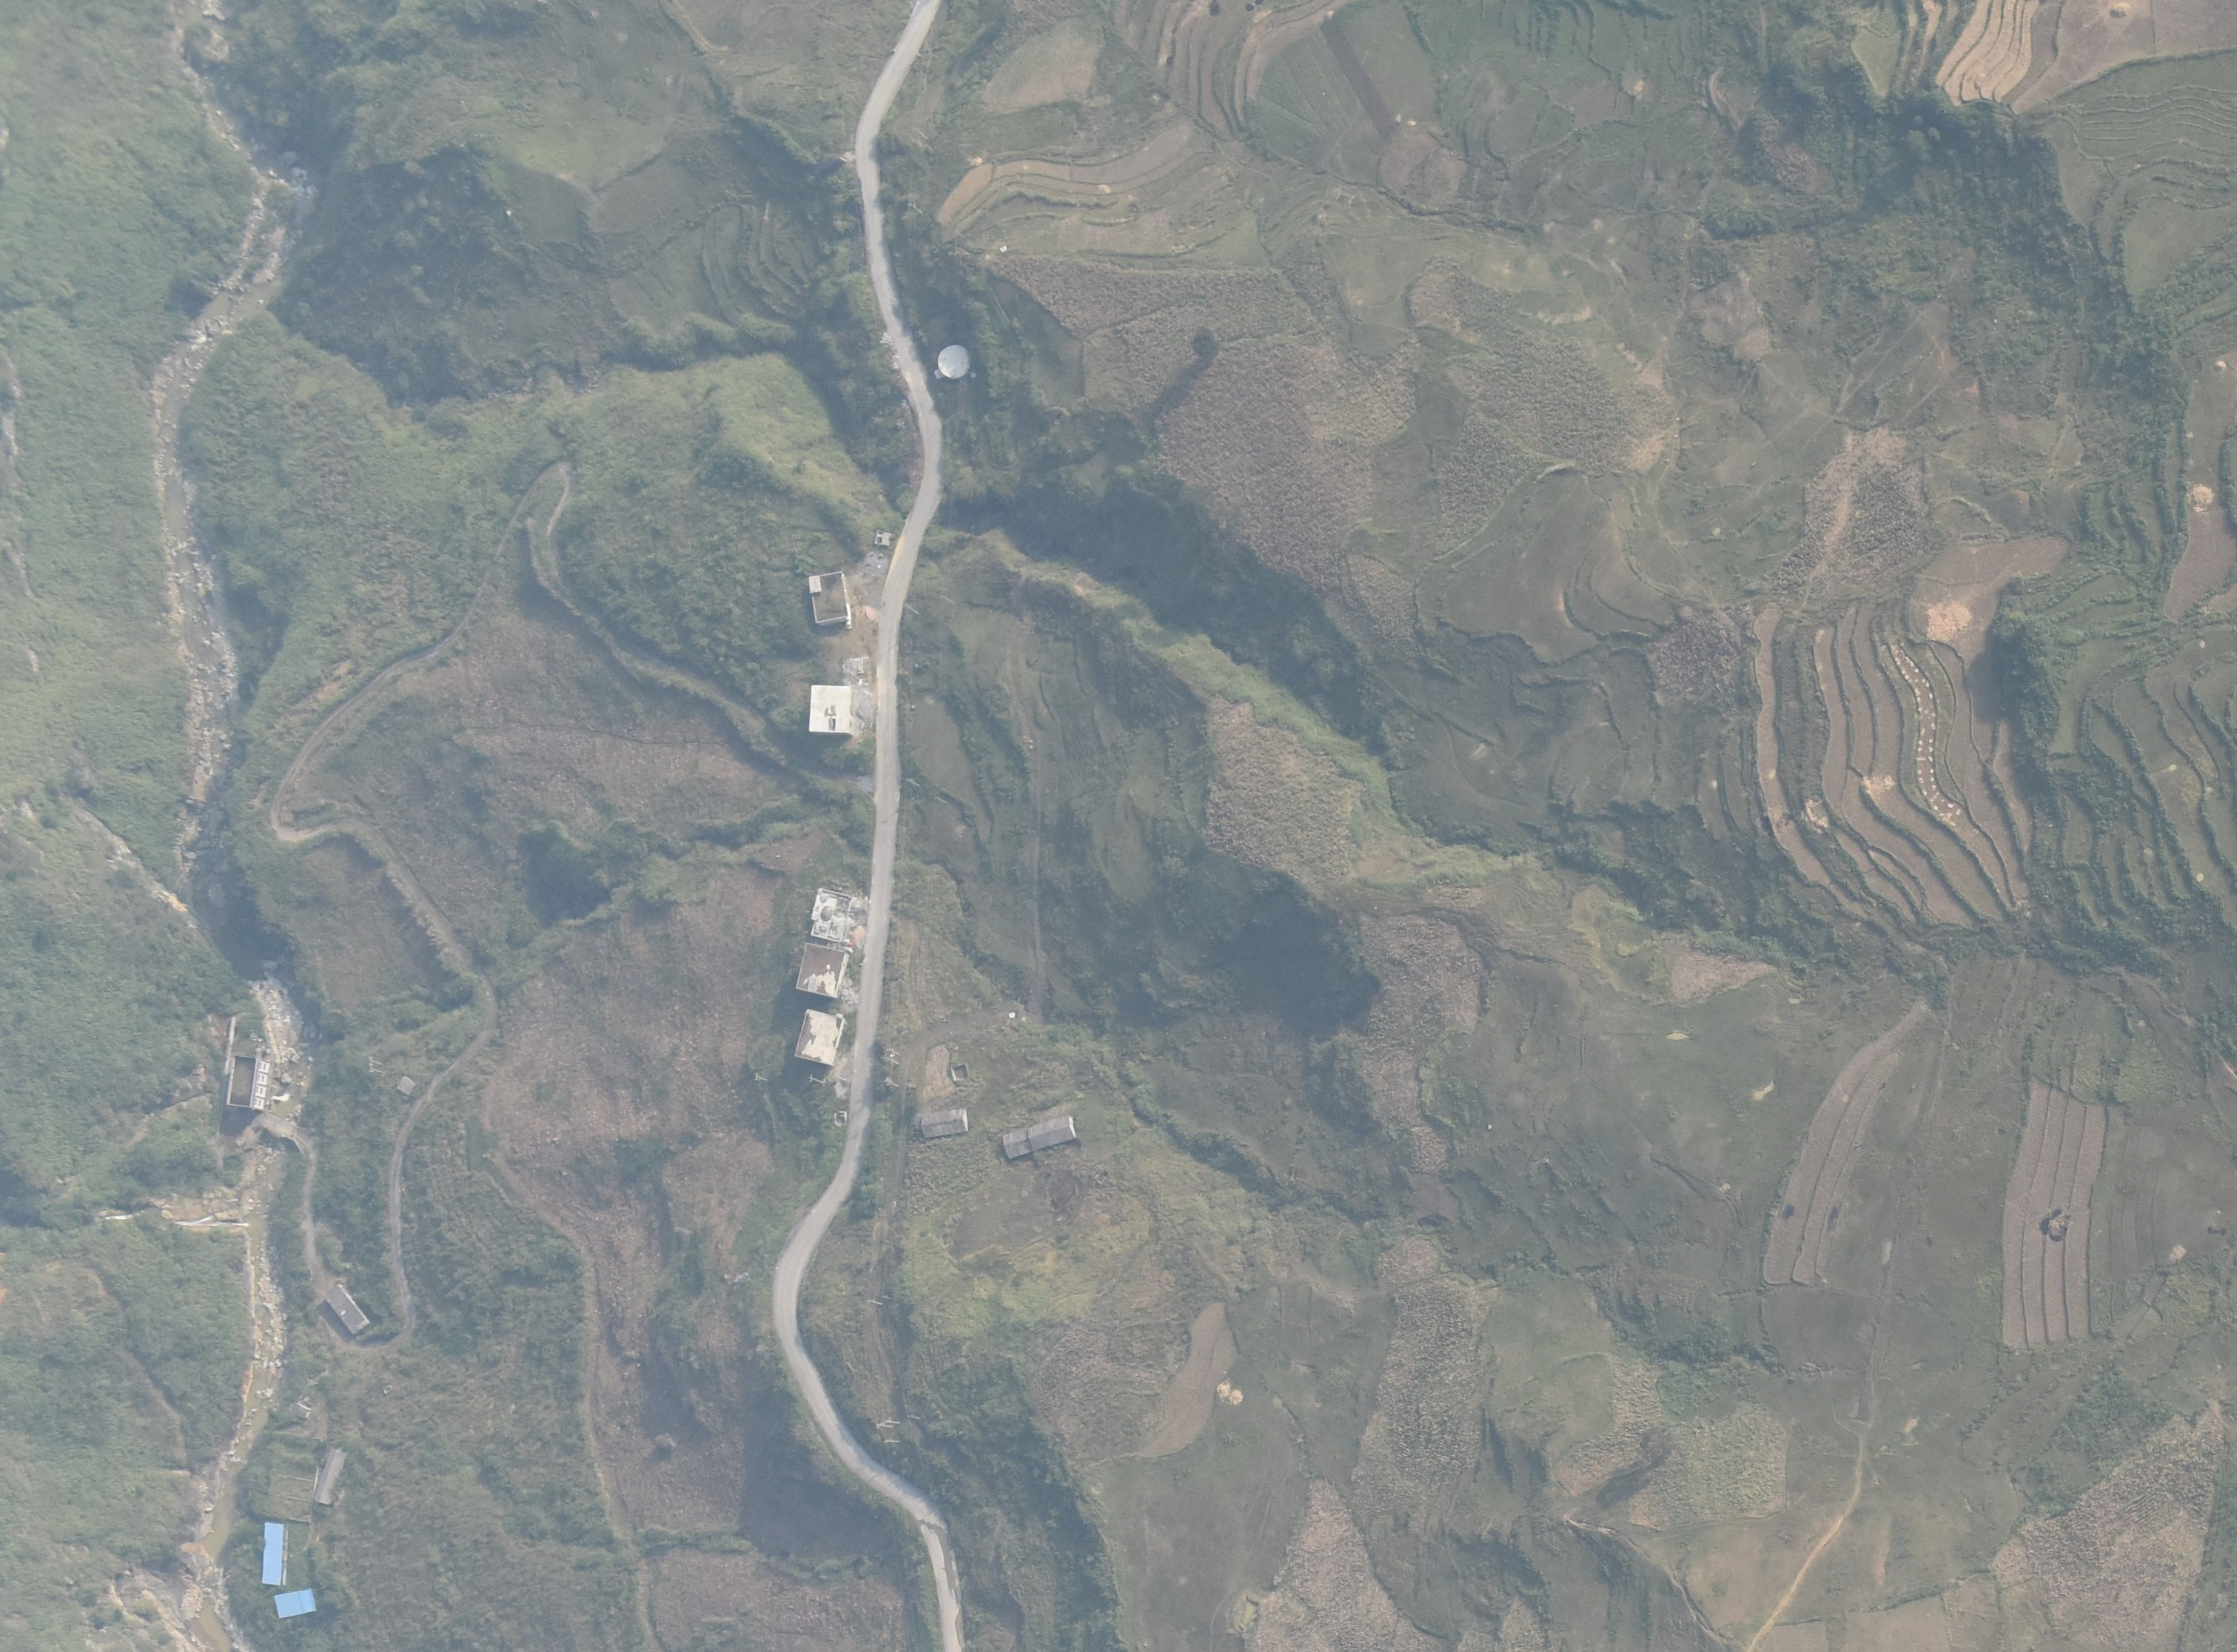building: (791, 1007, 850, 1068), (794, 942, 851, 997), (320, 1283, 372, 1340), (222, 1052, 269, 1112), (810, 884, 856, 944), (808, 682, 856, 739), (805, 568, 851, 628), (1025, 1114, 1078, 1151), (919, 1108, 972, 1138), (1000, 1129, 1036, 1158)
prefabricated-house: (258, 1518, 291, 1589), (272, 1588, 318, 1619)
well: (310, 1445, 348, 1505), (933, 339, 977, 383)
